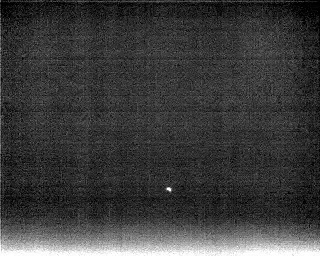BIRD: (164, 184, 174, 196)
